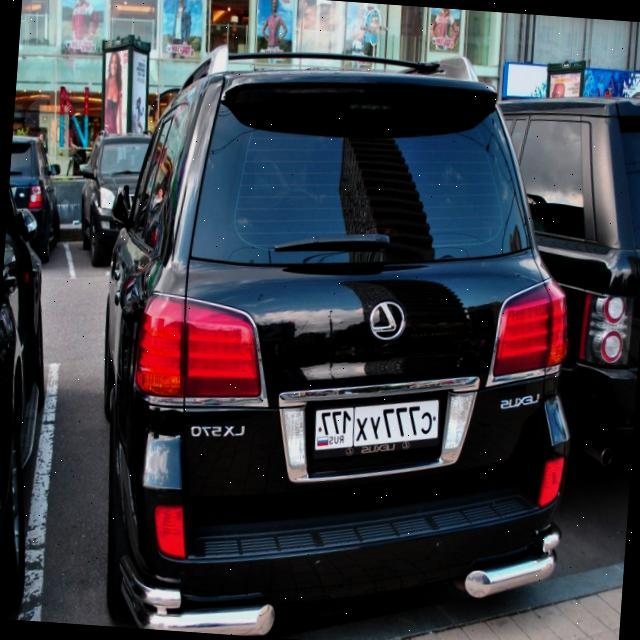number-plates: (310, 388, 441, 472)
